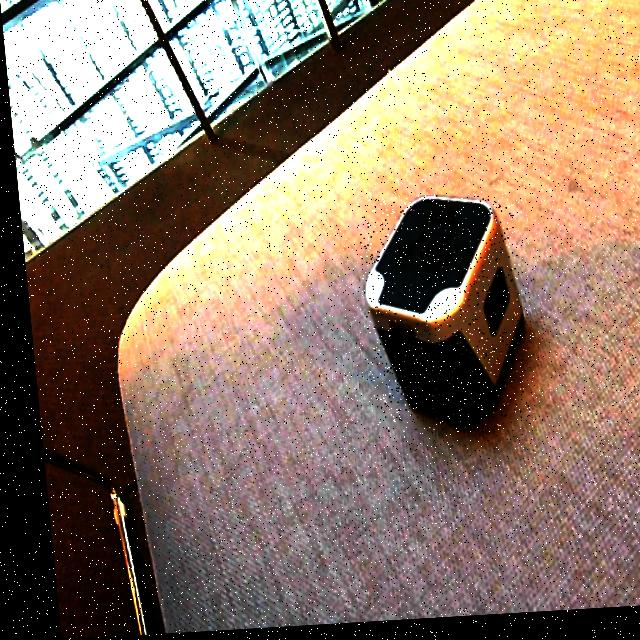adapter: (351, 197, 524, 438)
